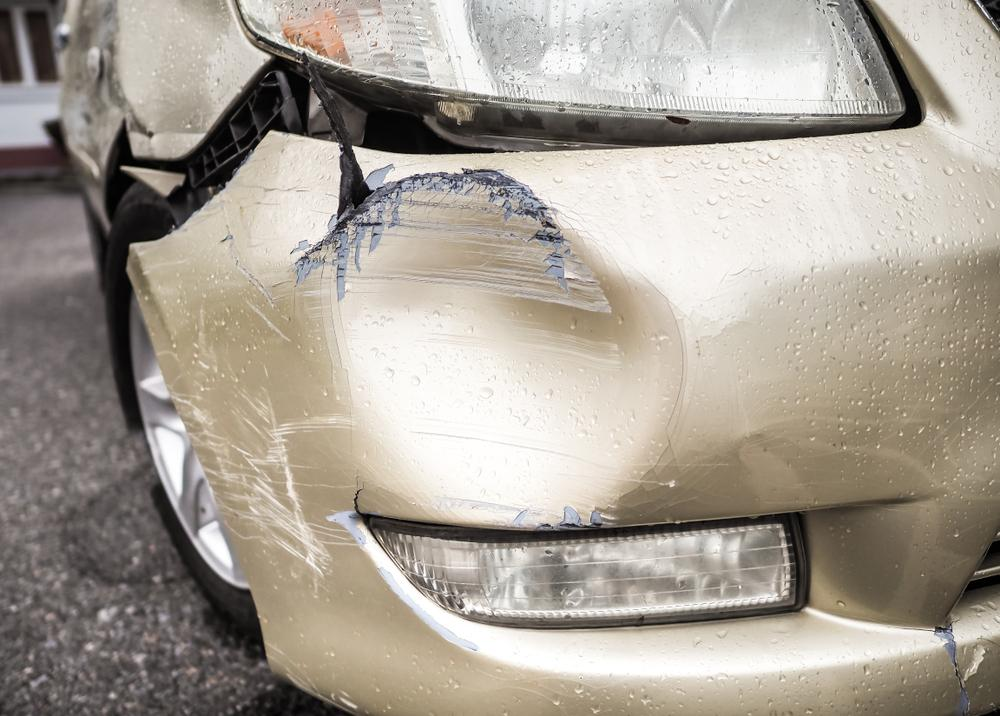crack: (900, 625, 969, 709), (327, 144, 378, 244), (352, 482, 366, 515)
dent: (312, 177, 678, 525)
scratch: (126, 176, 360, 602)
